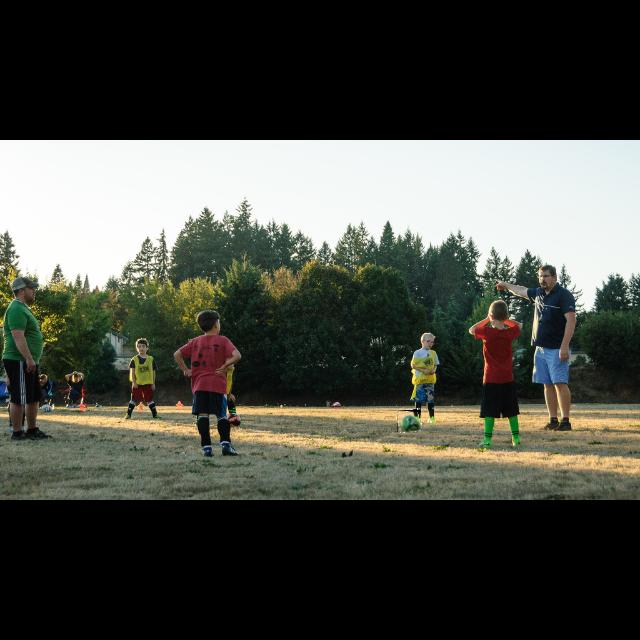Football: (397, 410, 421, 432)
